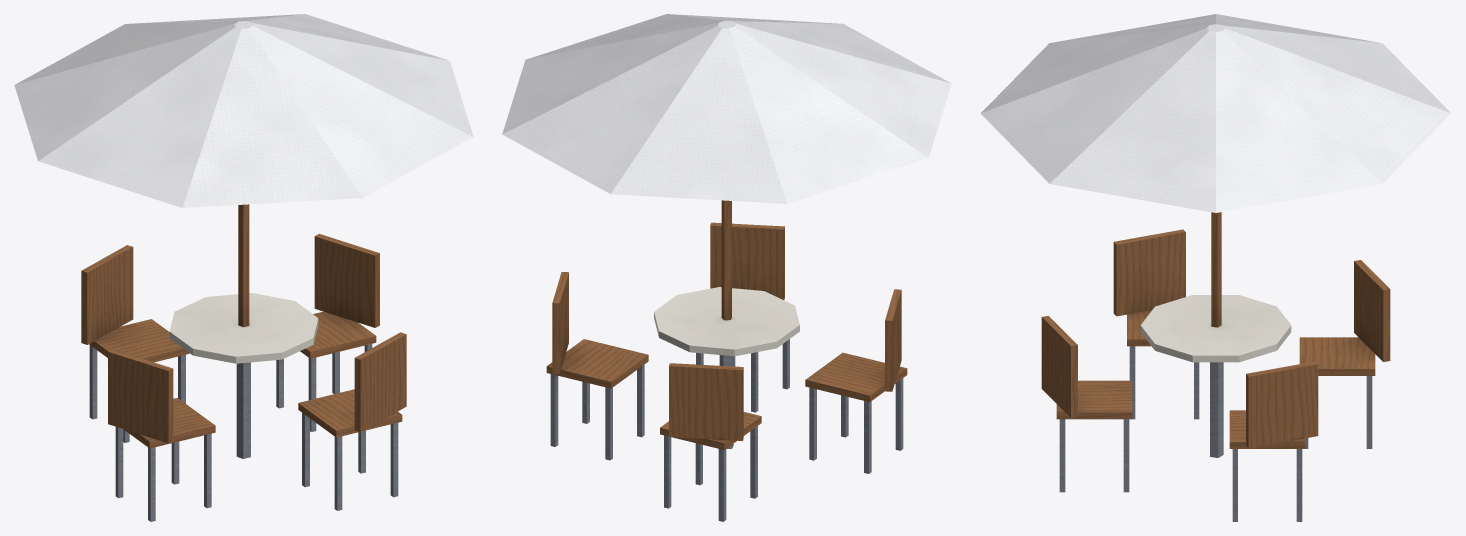
File: cafebord_tex.glb
3 renders of one model, left to right at view 1: azimuth 30°, elevation 25°; view 2: azimuth 150°, elevation 25°; view 3: azimuth 270°, elevation 25°, orthographic. The views are drawn at different scales.
Visible parts, largest first — view 1: cafebord; view 2: cafebord; view 3: cafebord.
Boxes of the visible parts, x1,y1,x2,y2 form: cafebord: [14, 14, 473, 521]; cafebord: [502, 14, 951, 521]; cafebord: [980, 14, 1451, 521].
Size of the model in its own units: 2.5 by 2.5 by 2.5.
Materials: 4 (4 with a texture image).
